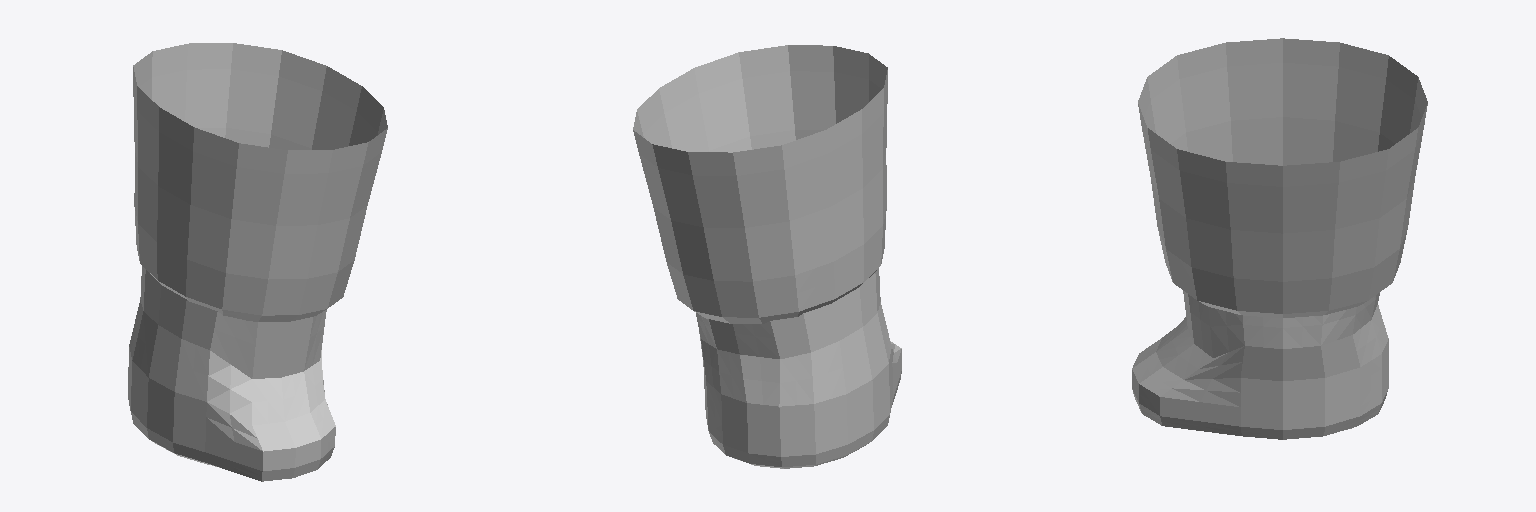
Rendered from rightLeg.obj.
3 renders of one model, left to right at view 1: azimuth 30°, elevation 25°; view 2: azimuth 150°, elevation 25°; view 3: azimuth 270°, elevation 25°, orthographic.
Parts seen in each view (by area): view 1: KNIGHT_meshes_Right_LEG_Right_LEG1; view 2: KNIGHT_meshes_Right_LEG_Right_LEG1; view 3: KNIGHT_meshes_Right_LEG_Right_LEG1.
Boxes of the visible parts, x1=… form: KNIGHT_meshes_Right_LEG_Right_LEG1: x1=128, y1=43, x2=387, y2=481; KNIGHT_meshes_Right_LEG_Right_LEG1: x1=633, y1=45, x2=901, y2=468; KNIGHT_meshes_Right_LEG_Right_LEG1: x1=1132, y1=38, x2=1427, y2=439.
Bounding box in the file's own units: 1.44 × 2.19 × 1.72.